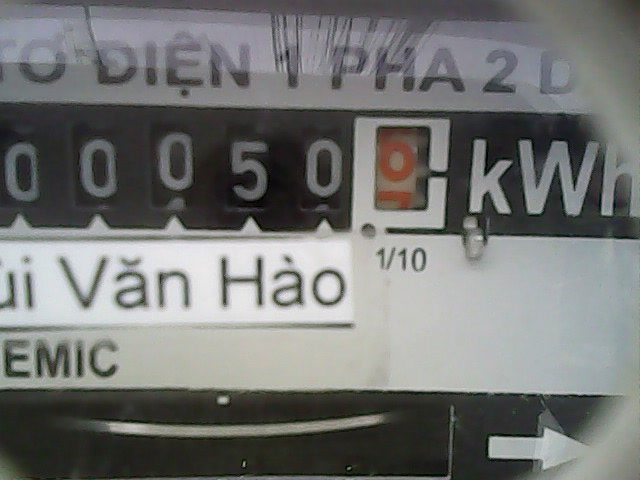phy_plate: (2, 102, 459, 240)
